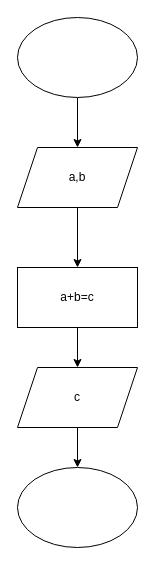
This 155x565 diagram has some shape labels left out. The shapes that lost their labels are listed below. From the top down, each one's box as (x1, y1, x2, y2) in pixels, then its label:
(16, 16, 138, 98): START
(16, 466, 138, 548): END
